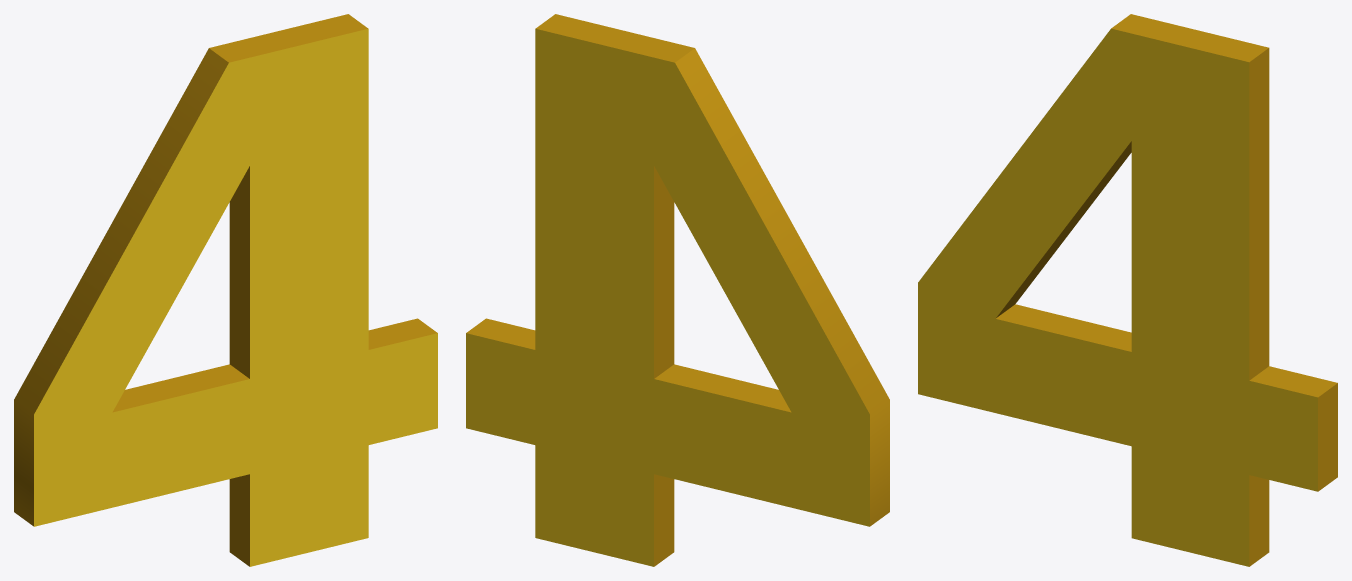
File: Digito4.obj
The picture shows the model from 3 angles, left to right: view 1: azimuth 30°, elevation 25°; view 2: azimuth 150°, elevation 25°; view 3: azimuth 330°, elevation 25°; orthographic projection.
Visible parts, largest first — view 1: Digito4; view 2: Digito4; view 3: Digito4.
Part boxes in pixels (x1,y1,x2,y2): Digito4: (14, 14, 437, 566); Digito4: (466, 14, 889, 566); Digito4: (918, 14, 1337, 566).
Bounding box in the file's own units: 0.4646 × 0.5601 × 0.04.
1 material, 1 textured.
